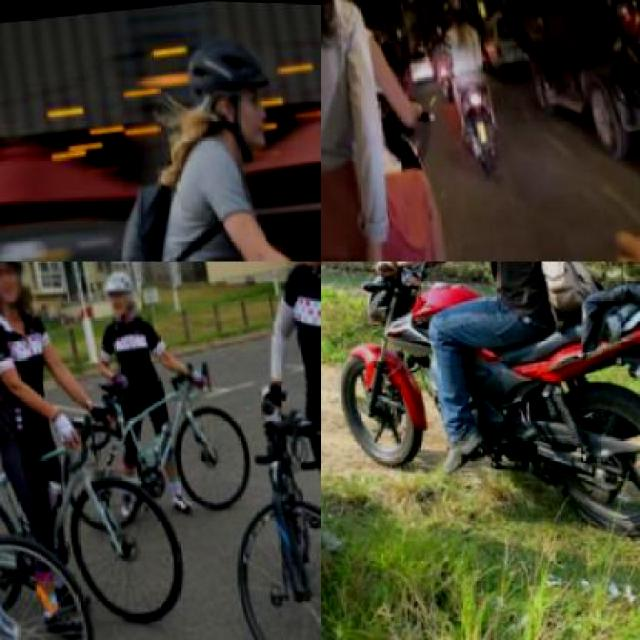With Helmet: (180, 26, 275, 162), (92, 262, 143, 320), (0, 261, 35, 315), (443, 0, 466, 18)
